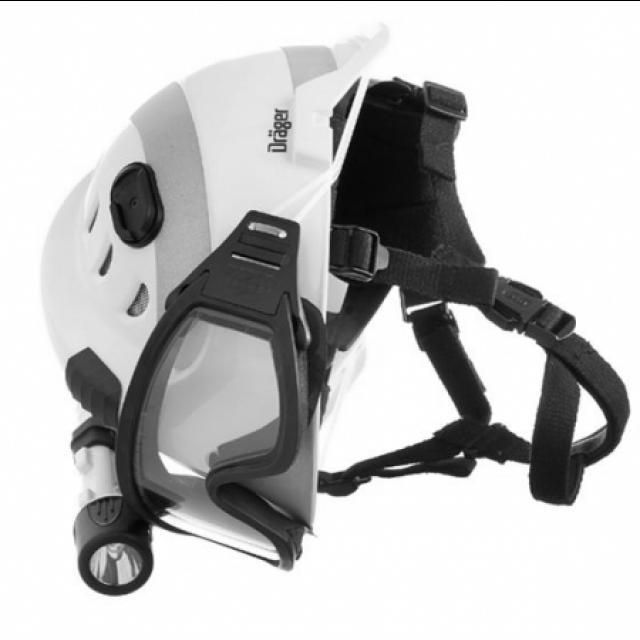safety_helmet: (41, 24, 631, 596)
